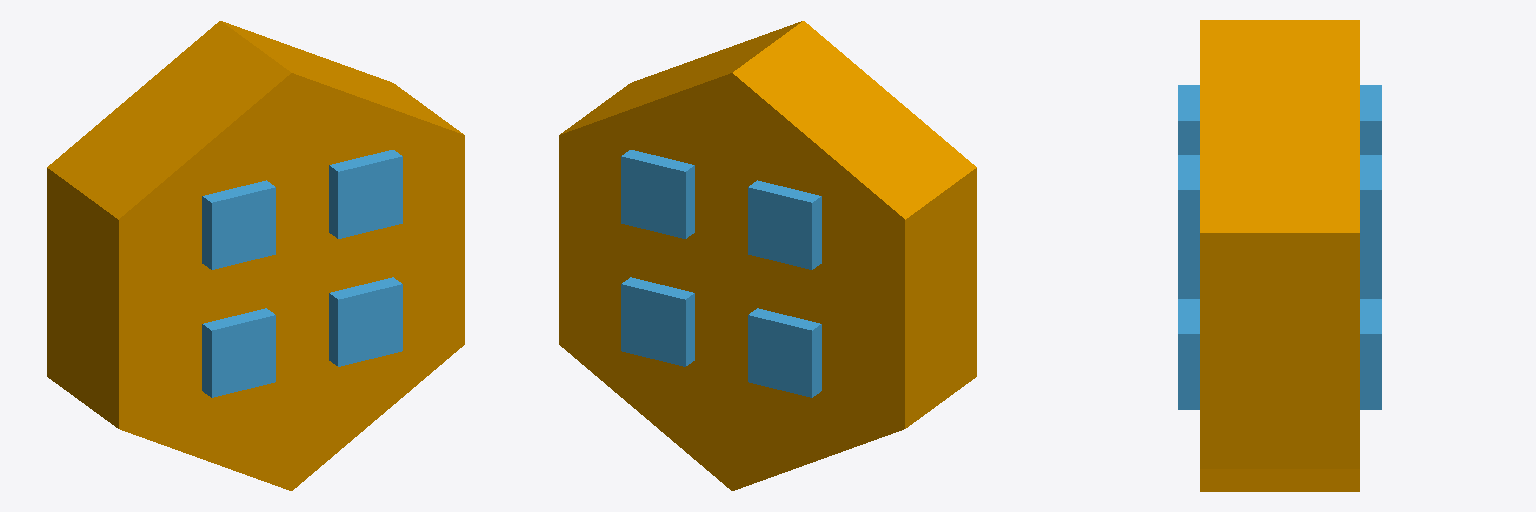
URDF robot description (peeled_cucumber_slice):
<?xml version="1.0"?>
<robot name="peeled_cucumber_slice">
  <link name="slice">
    <inertial>
        <origin rpy="0 0 0" xyz="0 0 0"/>
        <mass value="0.01"/>
        <inertia ixx="4.4e-5" ixy="0" ixz="0" iyy="0" iyz="0" izz="4.4e-5"/>
    </inertial>
    <visual>
      <geometry>
        <mesh filename="peeledCucumberSlice.obj"/>
      </geometry>
    </visual>
    <collision>
      <geometry>
        <mesh filename="peeledCucumberSlice.obj"/>
      </geometry>
      <surface>
           <bounce restitution_coefficient = "0.1"/>
      </surface>
    </collision>
  </link>
  <link name="seeds">
    <inertial>
        <origin rpy="0 0 0" xyz="0 0 0"/>
        <mass value="0.001"/>
        <inertia ixx="1.9e-5" ixy="0" ixz="0" iyy="6.8e-6" iyz="0" izz="1.2e-5"/>
    </inertial>
    <visual>
      <geometry>
        <mesh filename="cucumberSeeds.obj"/>
      </geometry>
    </visual>
    <collision>
      <geometry>
        <mesh filename="cucumberSeeds.obj"/>
      </geometry>
      <surface>
           <bounce restitution_coefficient = "0.1"/>
      </surface>
    </collision>
  </link>
  <joint name="slice_to_seeds" type="fixed">
    <parent link="slice"/>
    <child link="seeds"/>
    <origin rpy="0 0 0" xyz="0 0 0"/>
  </joint>
</robot>

--- What the picture shows (computed from the rendered views, not written in the file) ---
3 views of the same robot in one strip: view 1: azimuth 30°, elevation 25°; view 2: azimuth 150°, elevation 25°; view 3: azimuth 270°, elevation 25° (orthographic).
Model peeled_cucumber_slice with 2 links and 1 joints (1 fixed), rooted at slice, posed every joint at zero.
Links seen in each view (by area): view 1: slice, seeds; view 2: slice, seeds; view 3: slice, seeds.
Boxes of the visible links, <box> form: slice: <box>47,21,464,490</box>; seeds: <box>202,150,402,397</box>; slice: <box>559,21,976,490</box>; seeds: <box>621,150,821,397</box>; slice: <box>1200,20,1359,491</box>; seeds: <box>1178,85,1381,409</box>.
Bounding box of the posed robot: 0.0808 × 0.0364 × 0.0933 m (x, y, z).
2 mesh visuals loaded from 2 distinct referenced files (2 OBJ).
